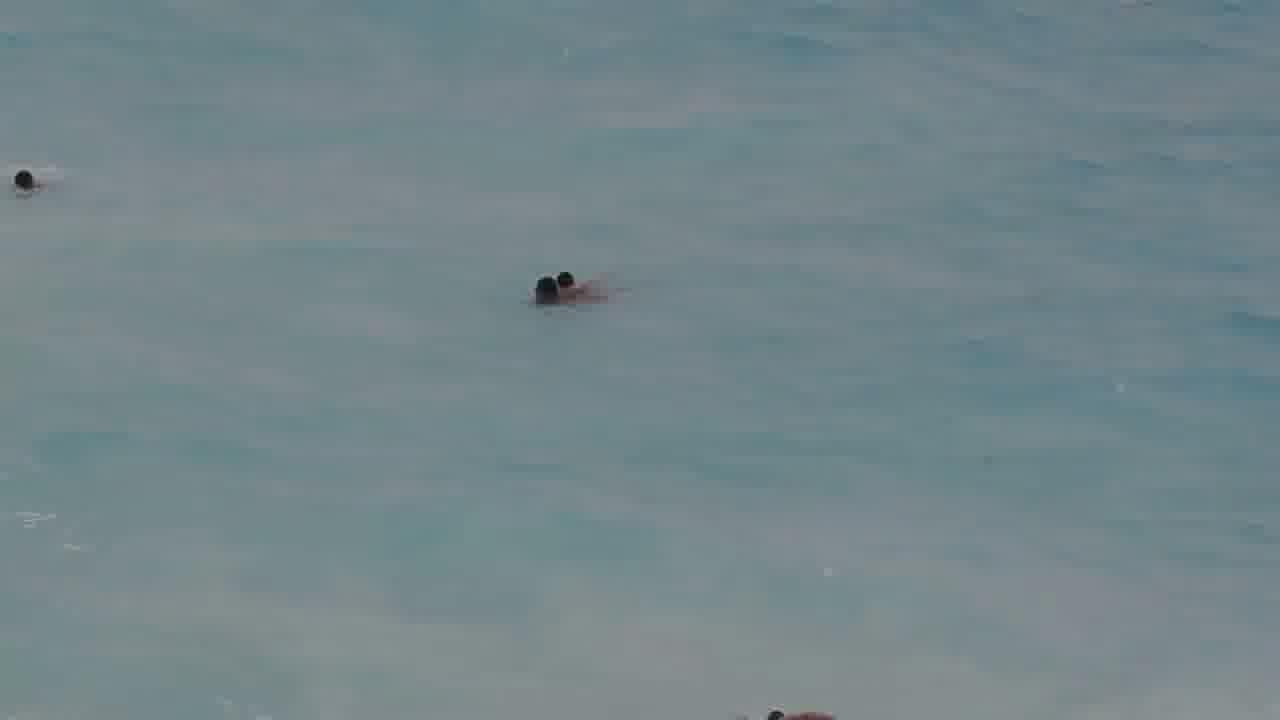swimmer: (554, 263, 617, 305), (518, 275, 566, 307), (7, 165, 52, 199)
